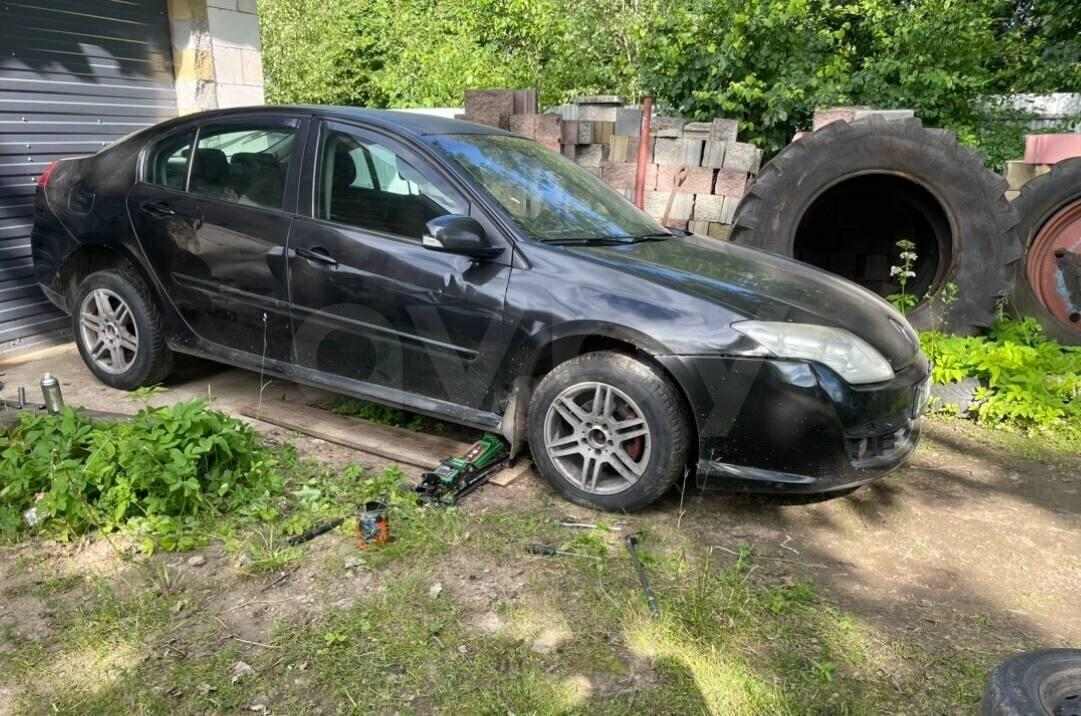Laguna_2007-2011: (32, 105, 928, 510)
